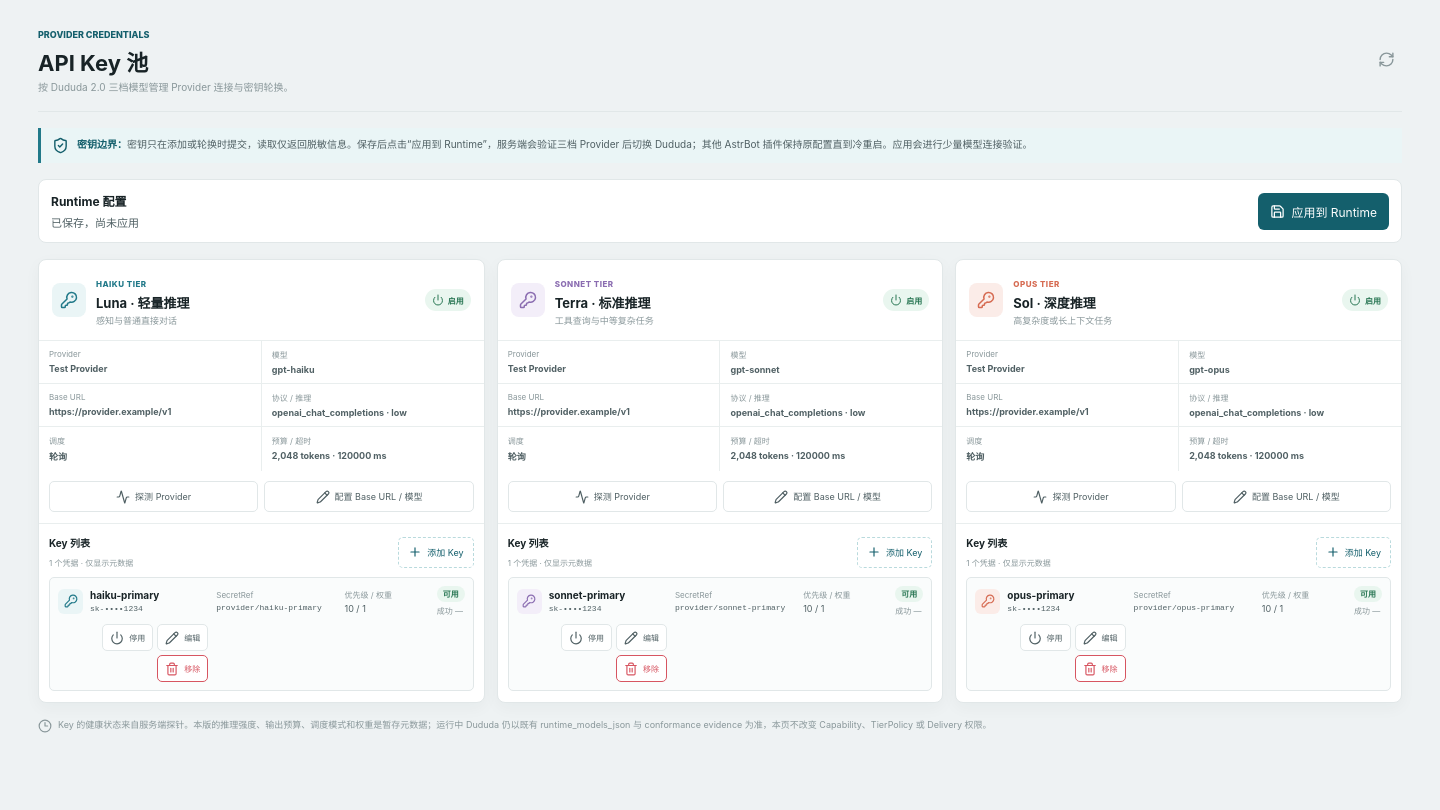
it: Explicit Runtime application › sends only the saved revision and shows actual apply success
Click the button "应用到 Runtime" at [1324, 211], box [1258,192,1389,230]
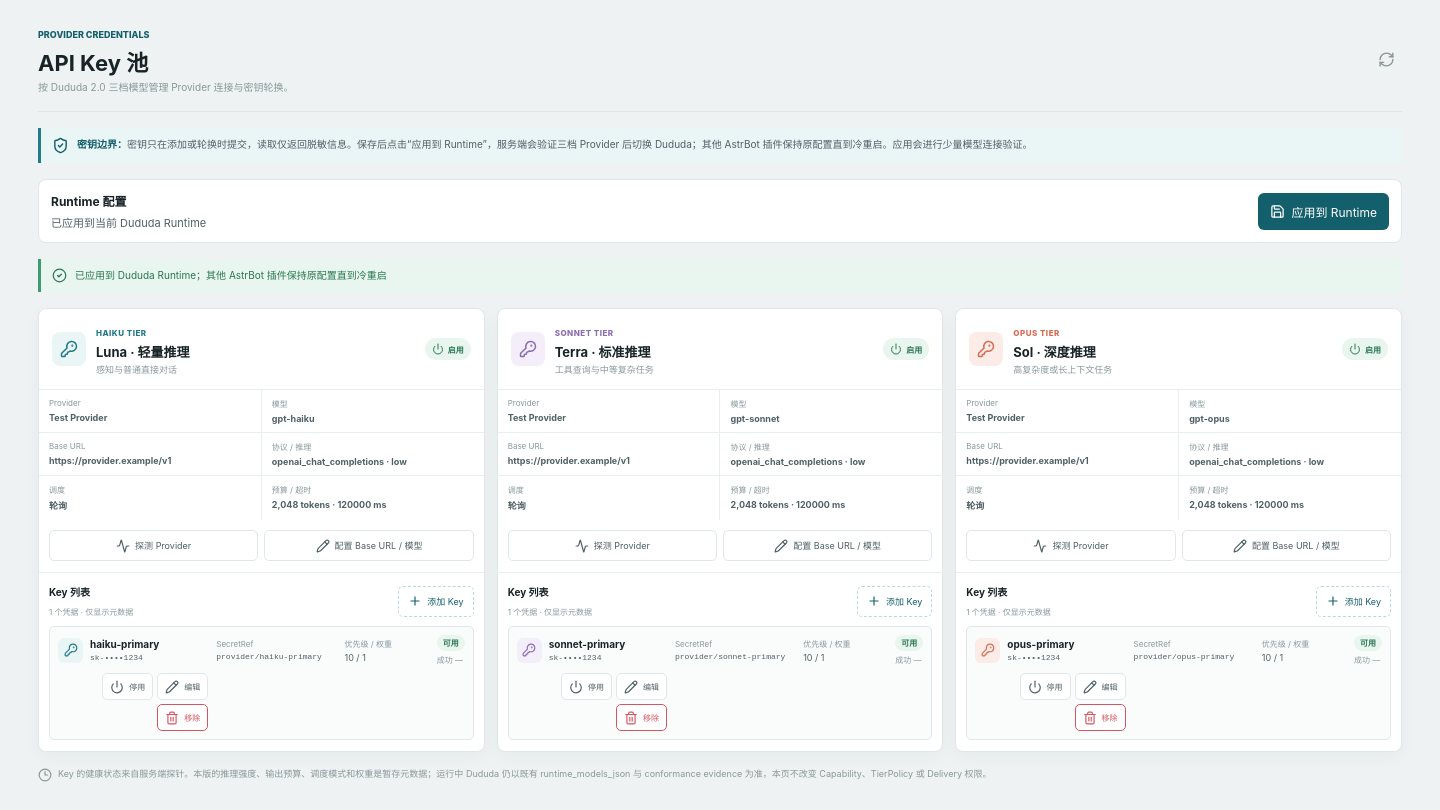
Check: the text "其他 AstrBot 插件保持原配置直到冷重启" is shown, box [127,138,1033,150]
Check: the text "已应用到当前 Dududa Runtime" is shown, box [51,214,206,230]
